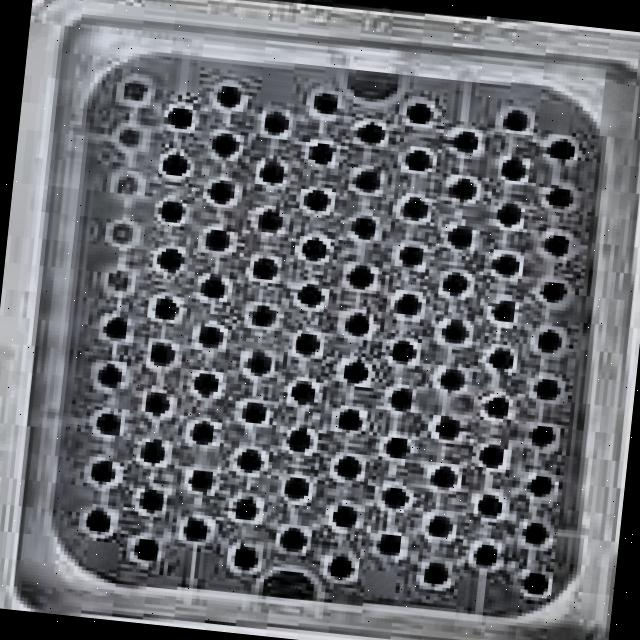vial: (157, 147, 193, 180), (282, 424, 318, 455), (287, 329, 324, 359), (153, 195, 188, 226), (299, 184, 335, 214), (384, 335, 420, 365), (330, 404, 366, 434), (339, 310, 377, 338), (340, 355, 373, 387), (398, 196, 432, 227), (190, 368, 224, 399), (204, 175, 239, 205), (186, 416, 221, 446), (276, 523, 312, 552), (280, 473, 313, 504), (492, 201, 526, 231), (423, 511, 457, 541), (177, 515, 212, 544), (389, 289, 425, 317), (393, 241, 429, 269), (255, 158, 288, 188), (286, 377, 319, 407), (91, 408, 124, 438), (228, 545, 262, 574), (419, 560, 453, 589), (545, 134, 580, 162), (538, 229, 573, 257), (519, 520, 554, 548), (470, 542, 502, 572), (351, 166, 384, 195), (141, 386, 174, 415), (449, 126, 483, 154), (138, 437, 169, 467), (260, 108, 292, 137), (234, 446, 266, 475), (82, 506, 114, 535), (428, 462, 460, 491), (527, 470, 559, 499), (439, 270, 472, 298), (487, 248, 520, 276), (379, 433, 412, 461), (87, 457, 120, 485), (473, 491, 506, 519), (246, 301, 280, 328), (486, 298, 520, 325), (483, 390, 513, 420), (344, 263, 375, 292), (477, 443, 508, 472), (292, 282, 324, 310), (241, 352, 273, 380), (402, 148, 436, 174), (446, 176, 480, 202), (307, 137, 337, 166), (239, 397, 270, 425), (500, 108, 532, 135), (499, 155, 531, 182), (201, 227, 233, 254), (154, 247, 186, 274), (93, 362, 125, 389), (136, 488, 168, 515), (332, 453, 364, 480), (402, 100, 435, 126), (145, 341, 178, 367), (541, 183, 574, 209), (445, 222, 474, 251), (166, 102, 195, 130), (540, 276, 569, 304), (327, 552, 356, 580), (522, 570, 551, 598), (533, 375, 563, 402), (152, 294, 182, 321), (231, 495, 261, 522), (375, 531, 405, 558), (348, 215, 379, 241), (186, 466, 217, 492), (489, 345, 517, 373), (131, 535, 159, 563), (216, 83, 245, 110), (431, 415, 460, 442), (199, 322, 228, 349), (101, 314, 130, 341), (309, 87, 339, 113), (330, 501, 358, 528), (249, 256, 278, 282), (300, 236, 329, 262), (441, 317, 470, 343), (386, 387, 415, 413), (532, 423, 560, 449), (210, 130, 239, 155), (536, 327, 565, 352), (382, 484, 411, 509), (355, 121, 386, 144), (436, 367, 467, 390), (256, 209, 282, 233), (201, 276, 227, 299)
